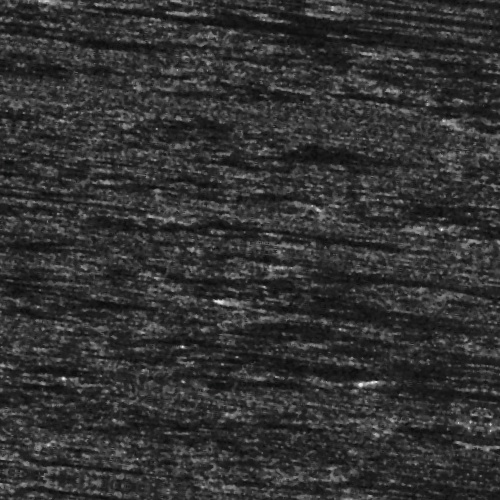object: (63, 12, 250, 27), (160, 295, 327, 308), (0, 17, 94, 32), (369, 357, 442, 370), (250, 256, 333, 263), (271, 3, 324, 10), (5, 479, 58, 486), (233, 12, 274, 19), (163, 222, 194, 229), (282, 0, 335, 3)
shadow: (157, 12, 500, 27), (16, 17, 357, 32), (244, 295, 500, 308), (254, 12, 500, 19), (292, 256, 500, 263), (179, 222, 358, 229), (406, 357, 500, 370), (32, 479, 155, 486), (298, 3, 360, 10), (0, 305, 41, 312), (309, 0, 371, 3)
